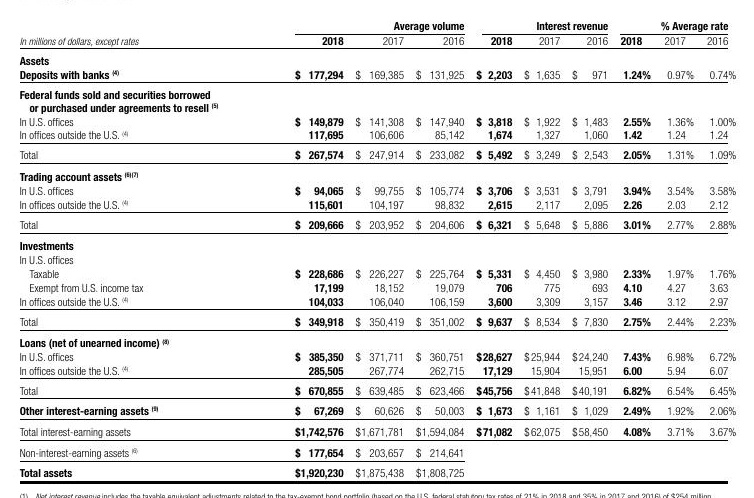table: (0, 0, 754, 498)
